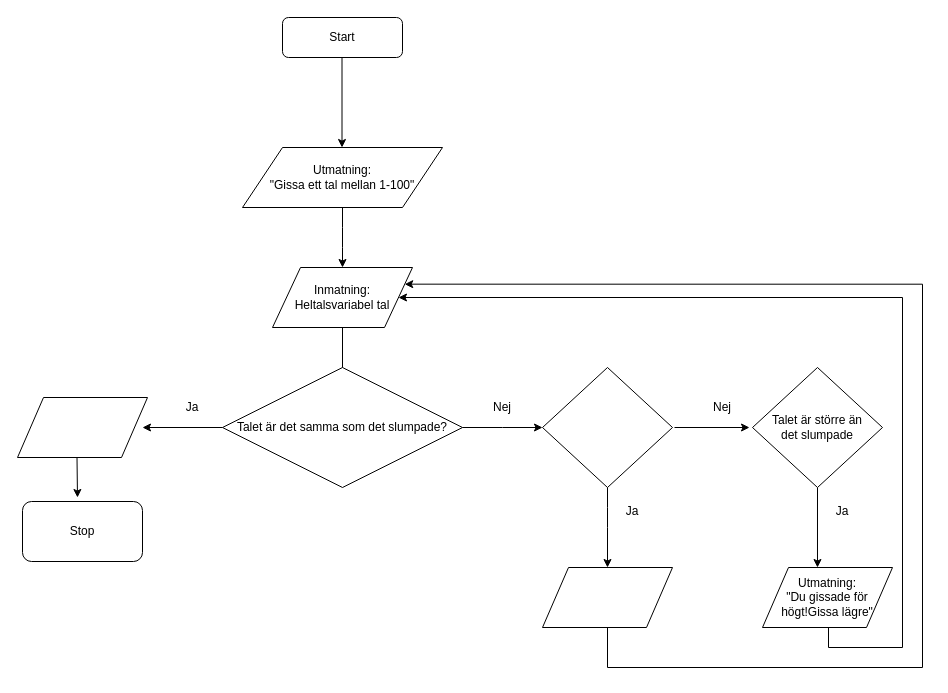
Image size: 948x693. Some labels were removed from this diagram. The box of each missing label's shape, as (x1, y1, x2, y2) in pixels:
Talet är mindre än det slumpade: (542, 366, 672, 488)
Utmatning: "Du gissade för lågt!Gissa högre": (542, 566, 672, 628)
Utmatning: "Du gissade rätt!: (16, 396, 148, 458)
